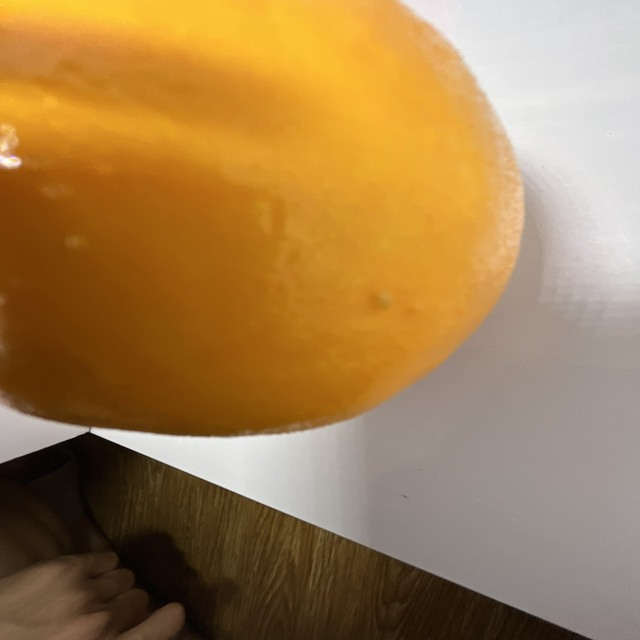Cam vang: (0, 0, 536, 443)
